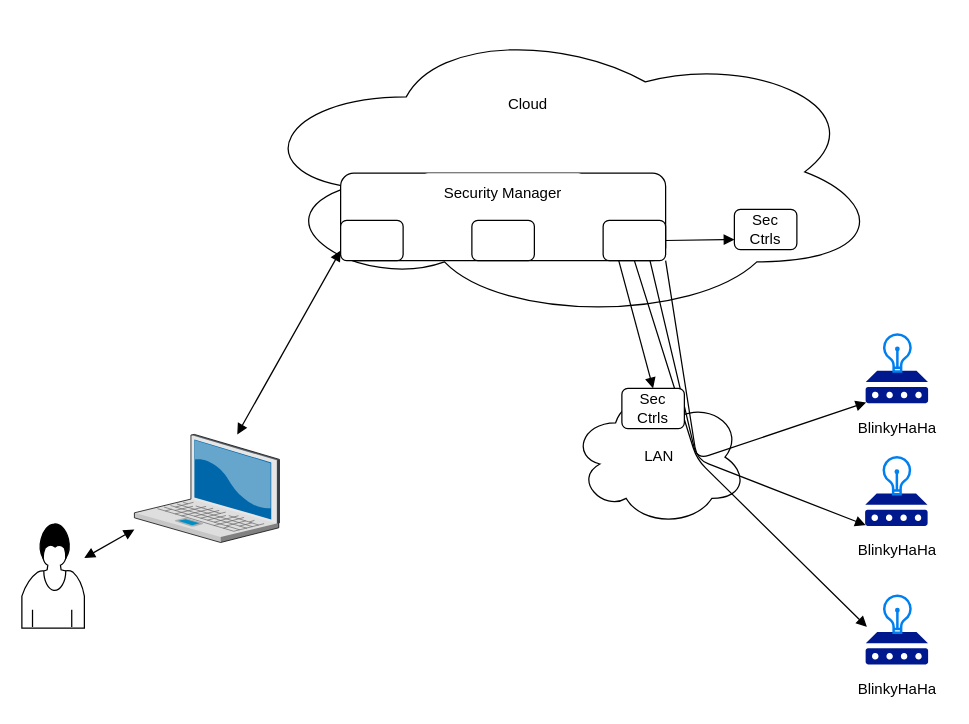
This 969x724 diagram has some shape labels left out. Here are the shapes that lost their labels. From the top down, the centre of each, then its label:
the point at 371,240: UI
the point at 502,240: Business Logic
the point at 634,240: C2
